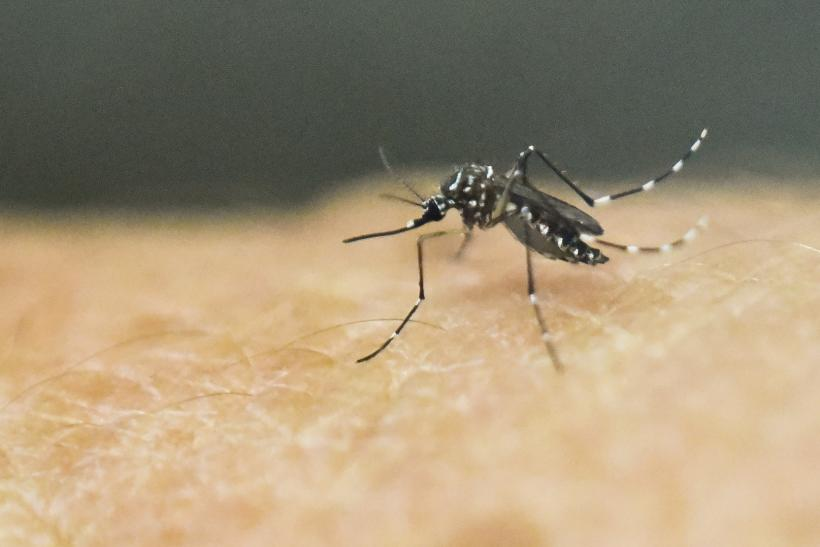dengue_mosquito: (339, 145, 664, 273)
